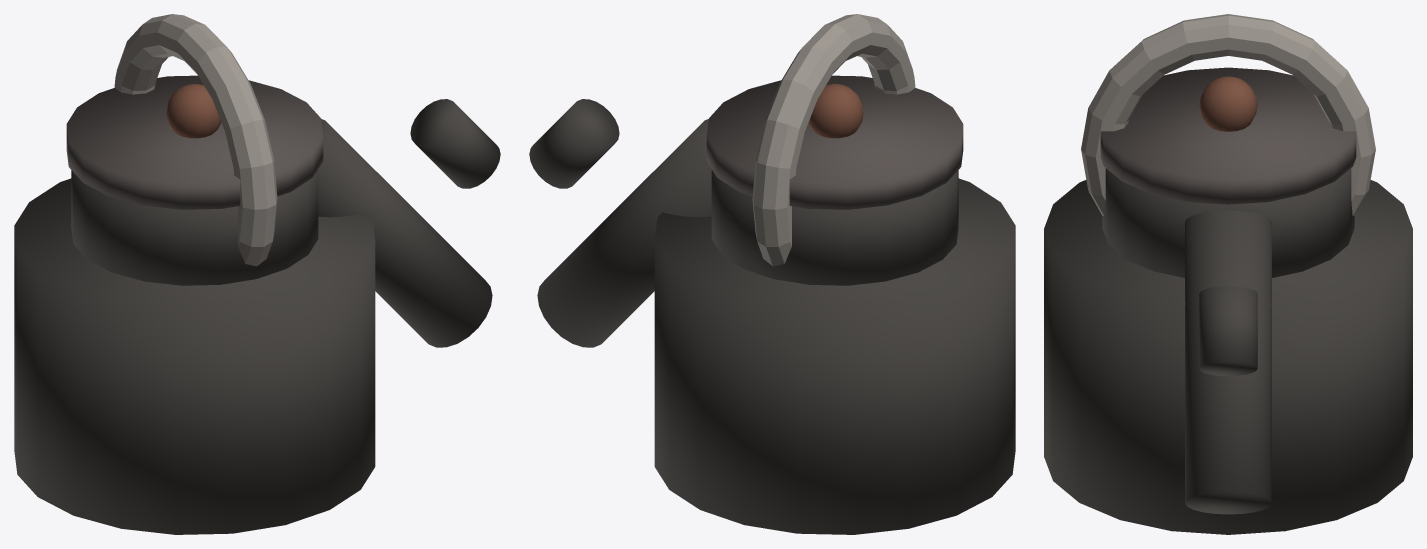
The model's file is kettle.glb.
3 views of the same model, side by side, from view 1: azimuth 30°, elevation 25°; view 2: azimuth 150°, elevation 25°; view 3: azimuth 270°, elevation 25° (orthographic).
Visible parts, largest first — view 1: merged_soot, lid, handle, knob; view 2: merged_soot, lid, handle, knob; view 3: merged_soot, lid, handle, knob.
Part boxes in pixels (x1=…): merged_soot: x1=14, y1=99, x2=500, y2=534; lid: x1=66, y1=75, x2=323, y2=209; handle: x1=114, y1=14, x2=277, y2=266; knob: x1=166, y1=84, x2=221, y2=138; merged_soot: x1=529, y1=99, x2=1015, y2=534; lid: x1=706, y1=75, x2=963, y2=209; handle: x1=752, y1=14, x2=915, y2=266; knob: x1=808, y1=84, x2=863, y2=138; merged_soot: x1=1044, y1=168, x2=1412, y2=534; lid: x1=1100, y1=67, x2=1356, y2=204; handle: x1=1081, y1=14, x2=1375, y2=216; knob: x1=1199, y1=76, x2=1257, y2=131.
Size of the model in its own units: 0.5537 by 0.502 by 0.38.
